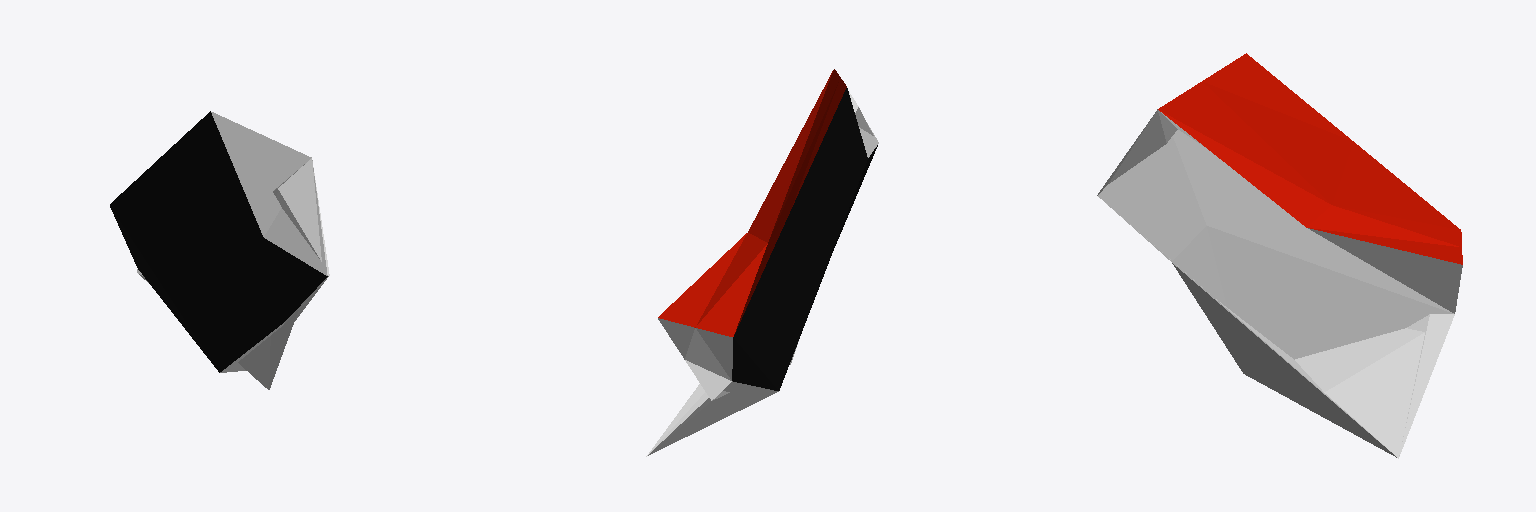
Rendered from debris2.obj.
3 renders of one model, left to right at view 1: azimuth 30°, elevation 25°; view 2: azimuth 150°, elevation 25°; view 3: azimuth 270°, elevation 25°, orthographic.
Visible parts, largest first — view 1: Cube; view 2: Cube; view 3: Cube.
Boxes of the visible parts, x1=… form: Cube: x1=110, y1=111, x2=329, y2=389; Cube: x1=646, y1=69, x2=878, y2=456; Cube: x1=1097, y1=53, x2=1462, y2=458.
Size of the model in its own units: 0.265 by 0.7014 by 0.6744.